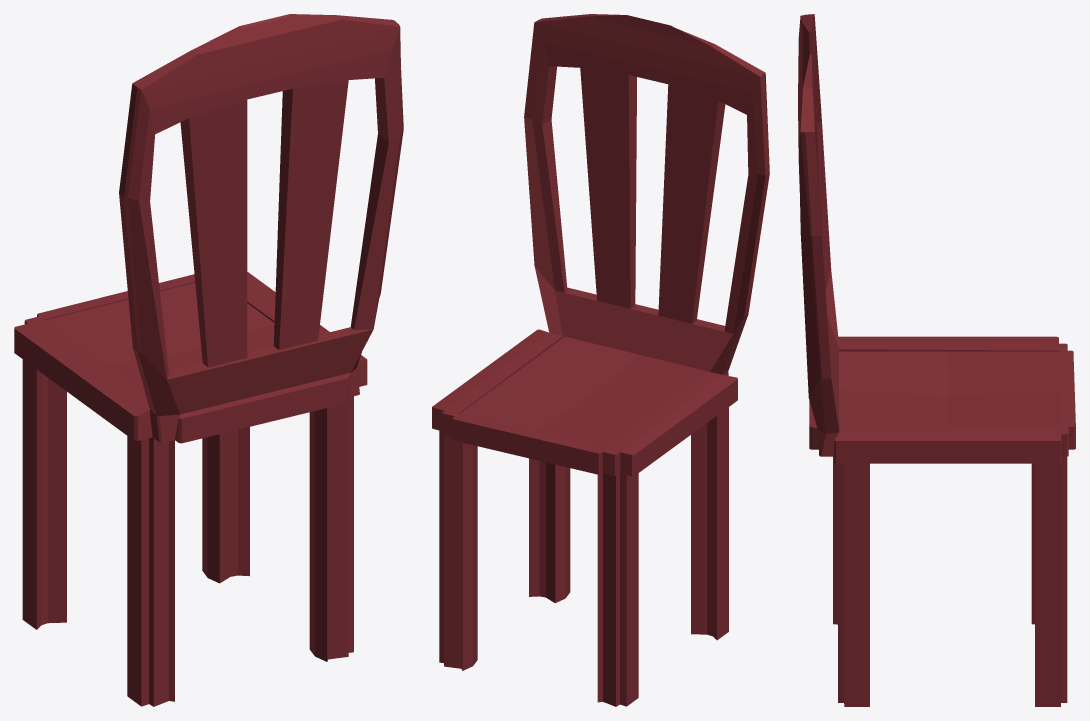
The model's file is cadeira_bar.glb.
3 views of the same model, side by side, from view 1: azimuth 30°, elevation 25°; view 2: azimuth 150°, elevation 25°; view 3: azimuth 270°, elevation 25° (orthographic). The views are drawn at different scales.
Visible parts, largest first — view 1: Cube; view 2: Cube; view 3: Cube.
Boxes of the visible parts, x1,y1,x2,y2 form: Cube: [14, 14, 403, 706]; Cube: [432, 14, 769, 706]; Cube: [798, 14, 1075, 706].
Size of the model in its own units: 4.55 by 10.43 by 4.26.
